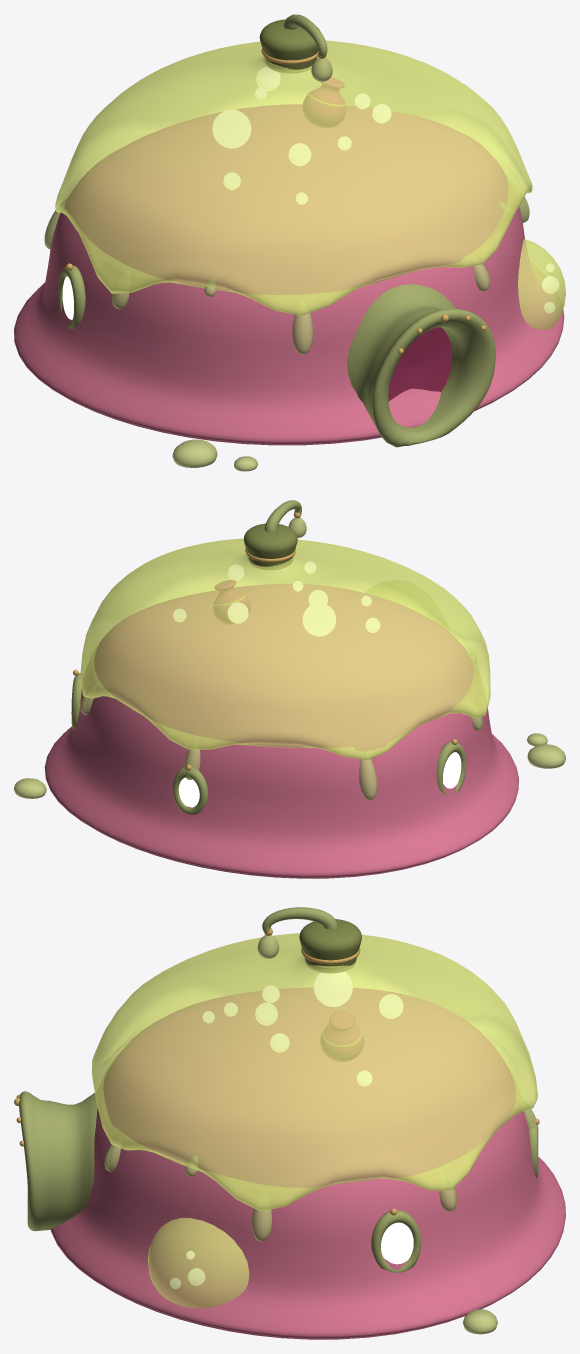
File: house_02_0210.fbx
3 renders of one model, top to bottom at view 1: azimuth 30°, elevation 25°; view 2: azimuth 150°, elevation 25°; view 3: azimuth 270°, elevation 25°, orthographic. The views are drawn at different scales.
Parts seen in each view (by area): view 1: House02_Body_Base, House02_Dome_JellyClear, House02_Entrance_Tunnel, House02_Blister_JellyClear, House02_Entrance_Shadow, House02_Top_Plug, House02_Float_Pot, House02_Float_Lamp, House02_Puddle_1, House02_WindowLip_L, House02_Drip_6, House02_Top_Sprout; view 2: House02_Body_Base, House02_Dome_JellyClear, House02_Top_Plug, House02_Float_Lamp, House02_WindowLip_Back, House02_Float_Pot, House02_Puddle_1, House02_WindowLip_L, House02_Drip_4, House02_Puddle_3, House02_Top_Sprout, House02_Window_L (+1 smaller); view 3: House02_Body_Base, House02_Dome_JellyClear, House02_Entrance_Tunnel, House02_Blister_JellyClear, House02_Top_Plug, House02_Float_Pot, House02_WindowLip_R, House02_Window_R, House02_Float_Lamp, House02_Top_Sprout, House02_Puddle_3, House02_Drip_1.
Boxes of the visible parts, x1,y1,x2,y2 form: House02_Body_Base: [14, 104, 564, 445]; House02_Dome_JellyClear: [55, 40, 532, 315]; House02_Entrance_Tunnel: [347, 284, 495, 447]; House02_Blister_JellyClear: [518, 239, 565, 329]; House02_Entrance_Shadow: [388, 327, 452, 401]; House02_Top_Plug: [259, 19, 319, 73]; House02_Float_Pot: [303, 77, 345, 127]; House02_Float_Lamp: [212, 110, 250, 148]; House02_Puddle_1: [172, 439, 217, 467]; House02_WindowLip_L: [58, 265, 85, 329]; House02_Drip_6: [292, 313, 313, 354]; House02_Top_Sprout: [283, 14, 327, 56]; House02_Body_Base: [44, 584, 518, 878]; House02_Dome_JellyClear: [80, 538, 490, 760]; House02_Top_Plug: [244, 523, 297, 569]; House02_Float_Lamp: [303, 603, 335, 636]; House02_WindowLip_Back: [172, 767, 207, 814]; House02_Float_Pot: [213, 580, 250, 624]; House02_Puddle_1: [527, 744, 565, 768]; House02_WindowLip_L: [436, 742, 466, 795]; House02_Drip_4: [359, 751, 377, 800]; House02_Puddle_3: [14, 778, 46, 798]; House02_Top_Sprout: [264, 500, 301, 532]; House02_Window_L: [443, 752, 461, 788]; House02_Body_Base: [50, 987, 565, 1339]; House02_Dome_JellyClear: [91, 933, 537, 1211]; House02_Entrance_Tunnel: [19, 1091, 97, 1231]; House02_Blister_JellyClear: [147, 1218, 249, 1308]; House02_Top_Plug: [299, 919, 361, 972]; House02_Float_Pot: [320, 1011, 364, 1061]; House02_WindowLip_R: [371, 1210, 421, 1272]; House02_Window_R: [381, 1222, 413, 1264]; House02_Float_Lamp: [314, 972, 352, 1006]; House02_Top_Sprout: [262, 907, 337, 932]; House02_Puddle_3: [462, 1309, 497, 1334]; House02_Drip_1: [252, 1208, 271, 1241].
Bounding box in the file's own units: 6.3 × 3.96 × 6.2.
